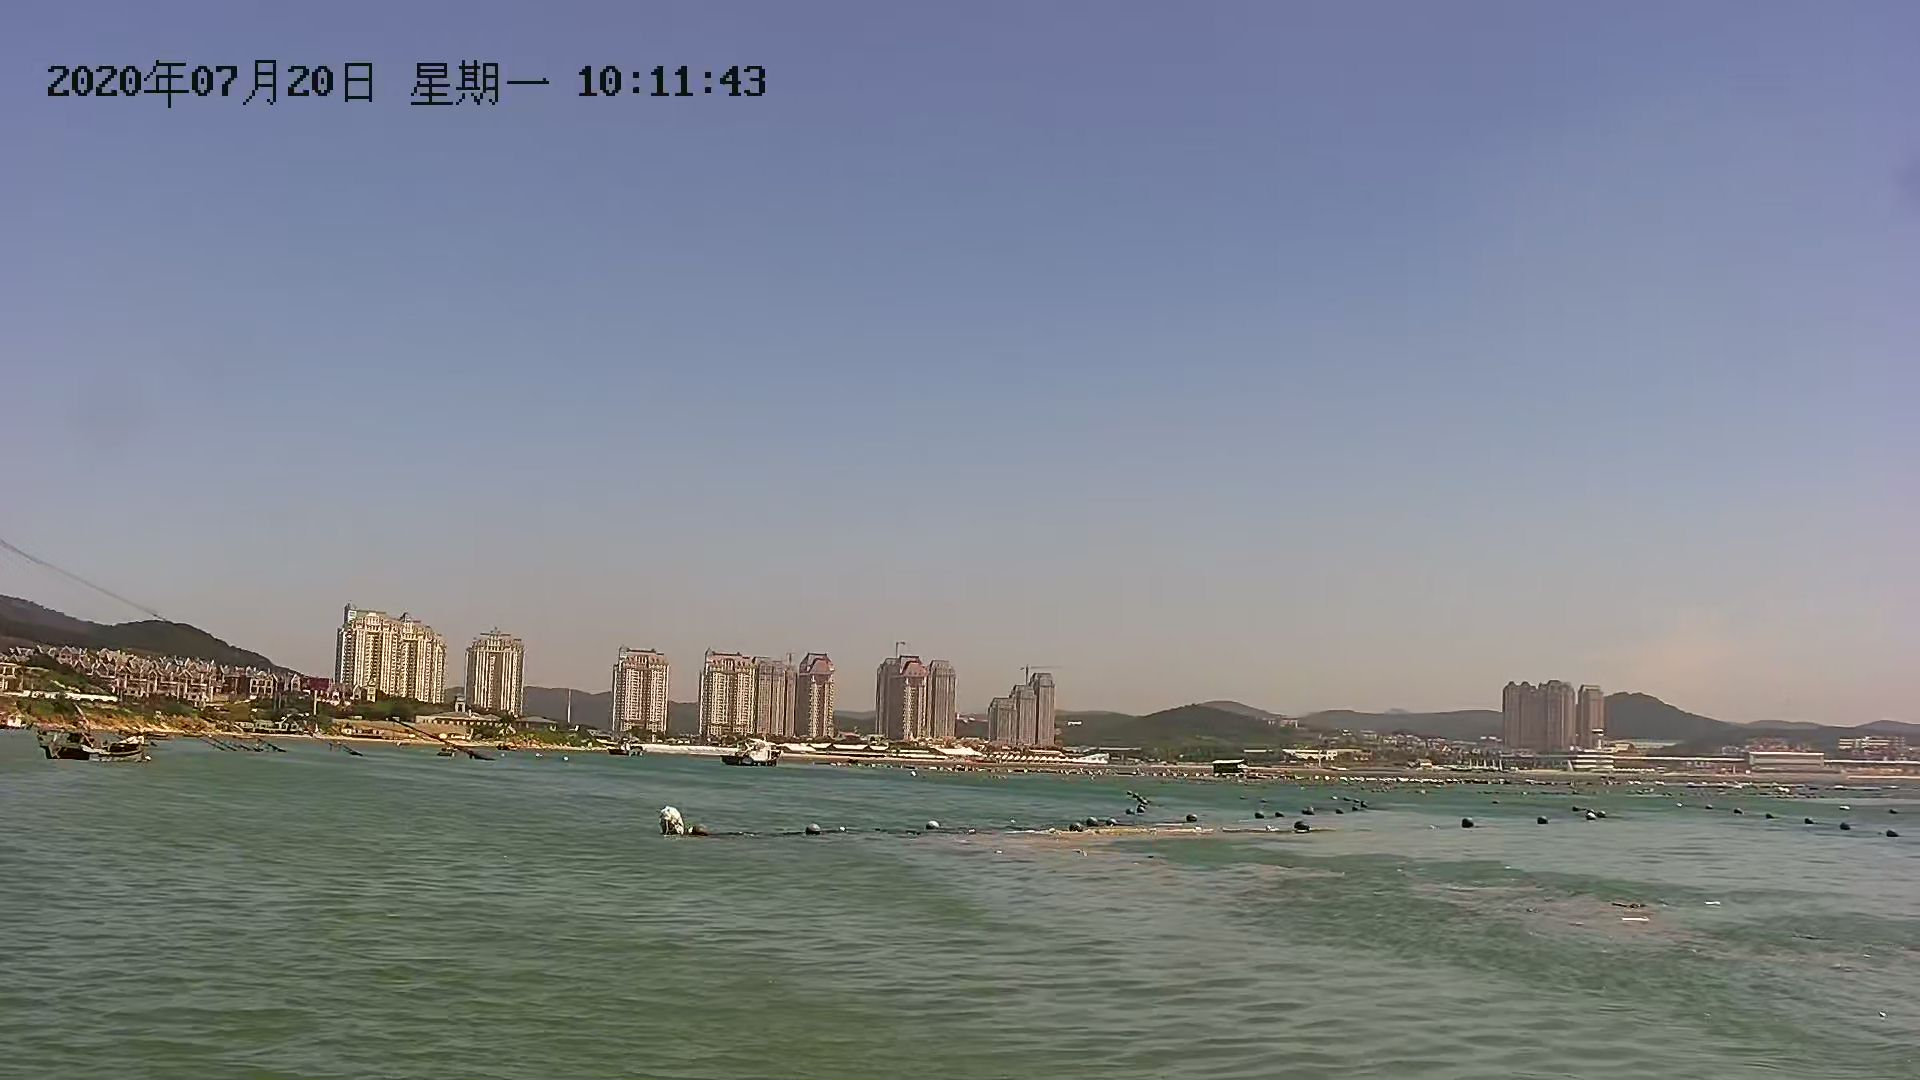ball: (1291, 814, 1316, 837), (1455, 815, 1487, 831), (800, 822, 822, 843)
boat: (44, 721, 154, 769)
rubbish: (650, 803, 690, 841)
